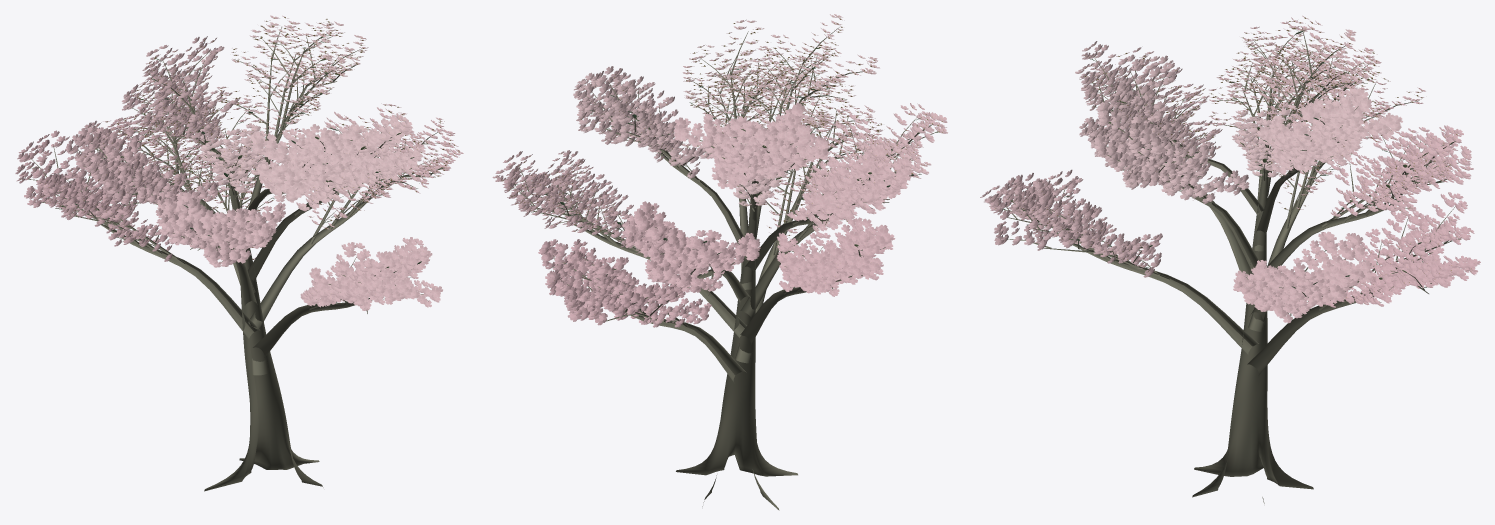
3 renders of one model, left to right at view 1: azimuth 30°, elevation 25°; view 2: azimuth 150°, elevation 25°; view 3: azimuth 270°, elevation 25°, orthographic. The views are drawn at different scales.
Parts seen in each view (by area): view 1: leaves, branches; view 2: leaves, branches; view 3: leaves, branches.
Boxes of the visible parts, x1,y1,x2,y2 form: leaves: (15,15,463,310); branches: (28,27,449,491); leaves: (492,14,947,327); branches: (507,27,937,510); leaves: (980,15,1480,323); branches: (996,28,1458,503).
Bounding box in the file's own units: 8.95 × 8.89 × 9.27.
